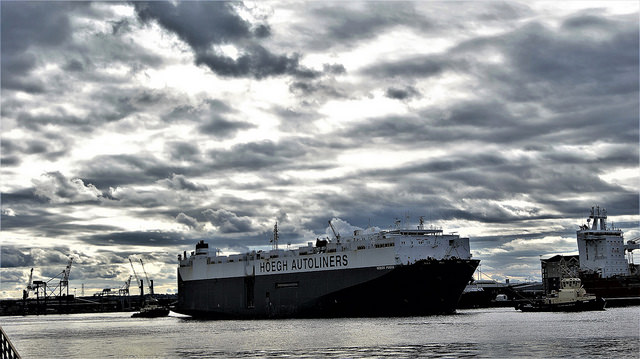PCC: (177, 221, 482, 317)
tug_boat: (512, 268, 606, 310), (132, 294, 169, 317)
